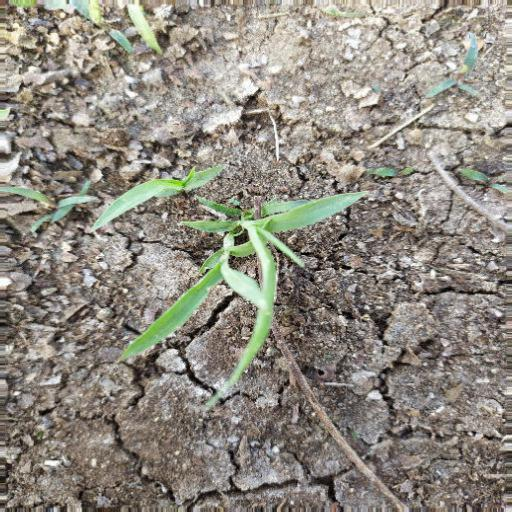weed: (85, 156, 376, 415)
